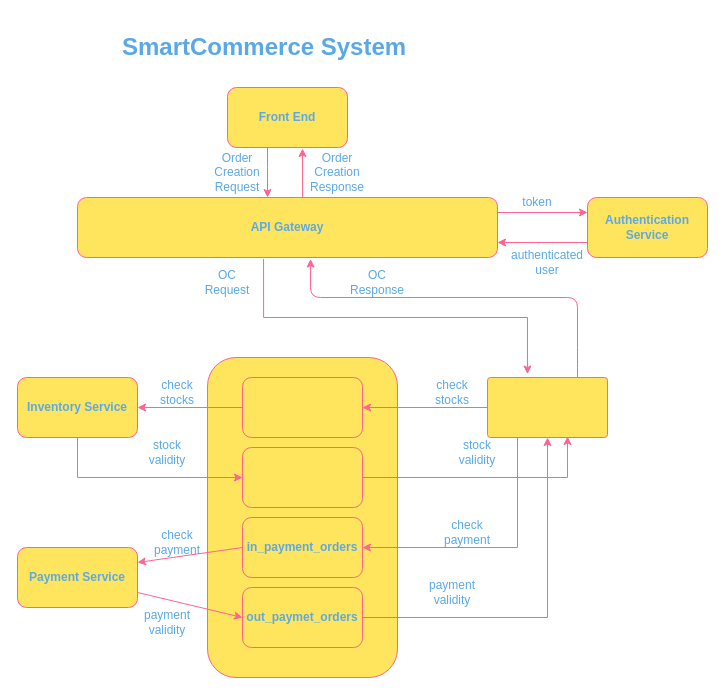
The diagram is 725 pixels wide and 695 high, and some of its shapes have lost their labels. The shapes that lost their labels are listed below. From the top down, each one's box as (x1, y1, x2, y2) in pixels, then its label:
(242, 376, 362, 438): in_product_orders
(486, 376, 608, 438): Order Service
(242, 446, 362, 508): out_product_orders
(206, 356, 398, 678): Kafka
